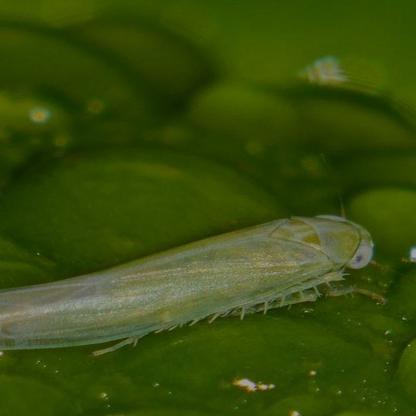green-leafhopper: (0, 214, 376, 353)
